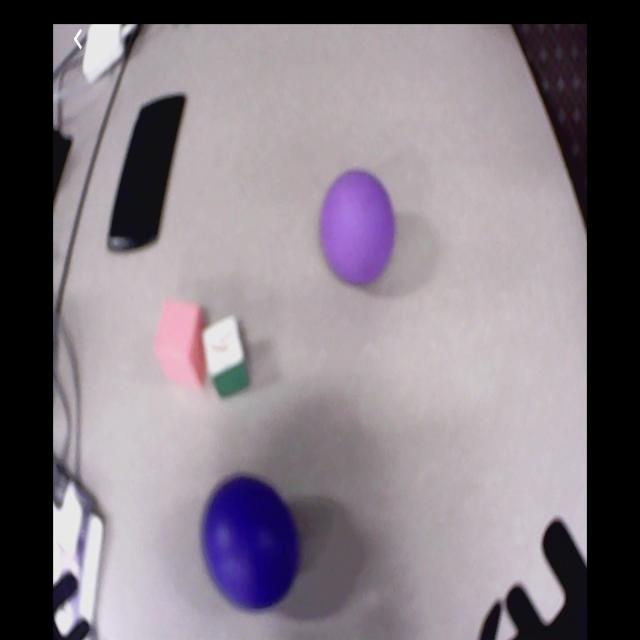ball: (204, 477, 301, 613), (322, 171, 396, 286)
